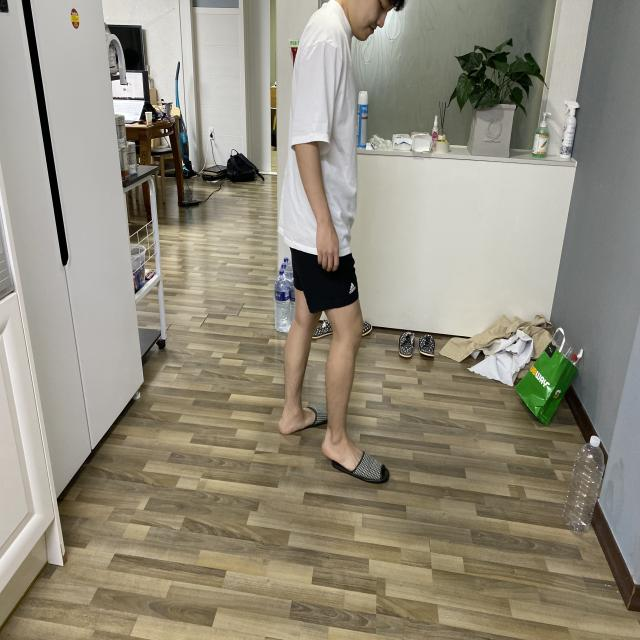no-boots: (325, 433, 398, 501), (274, 402, 326, 432)
